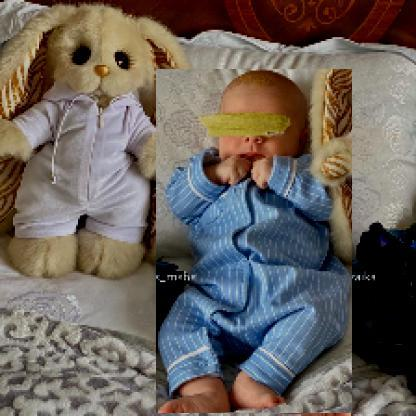child: (157, 70, 354, 415)
